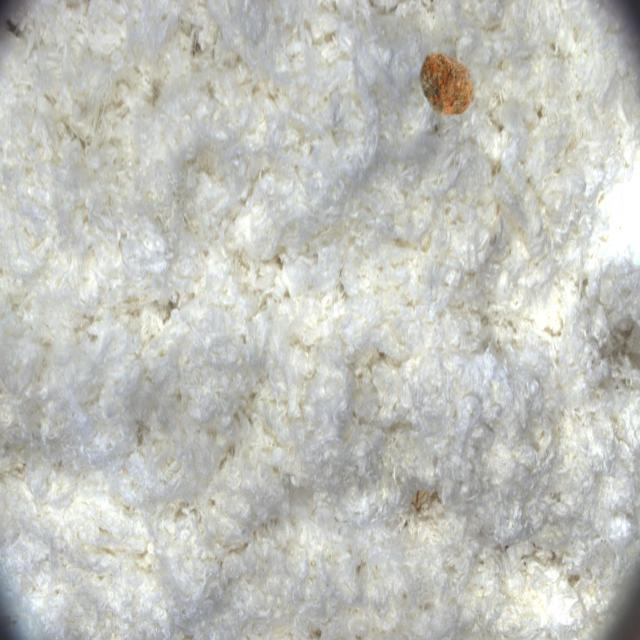dust: (397, 24, 505, 147)
